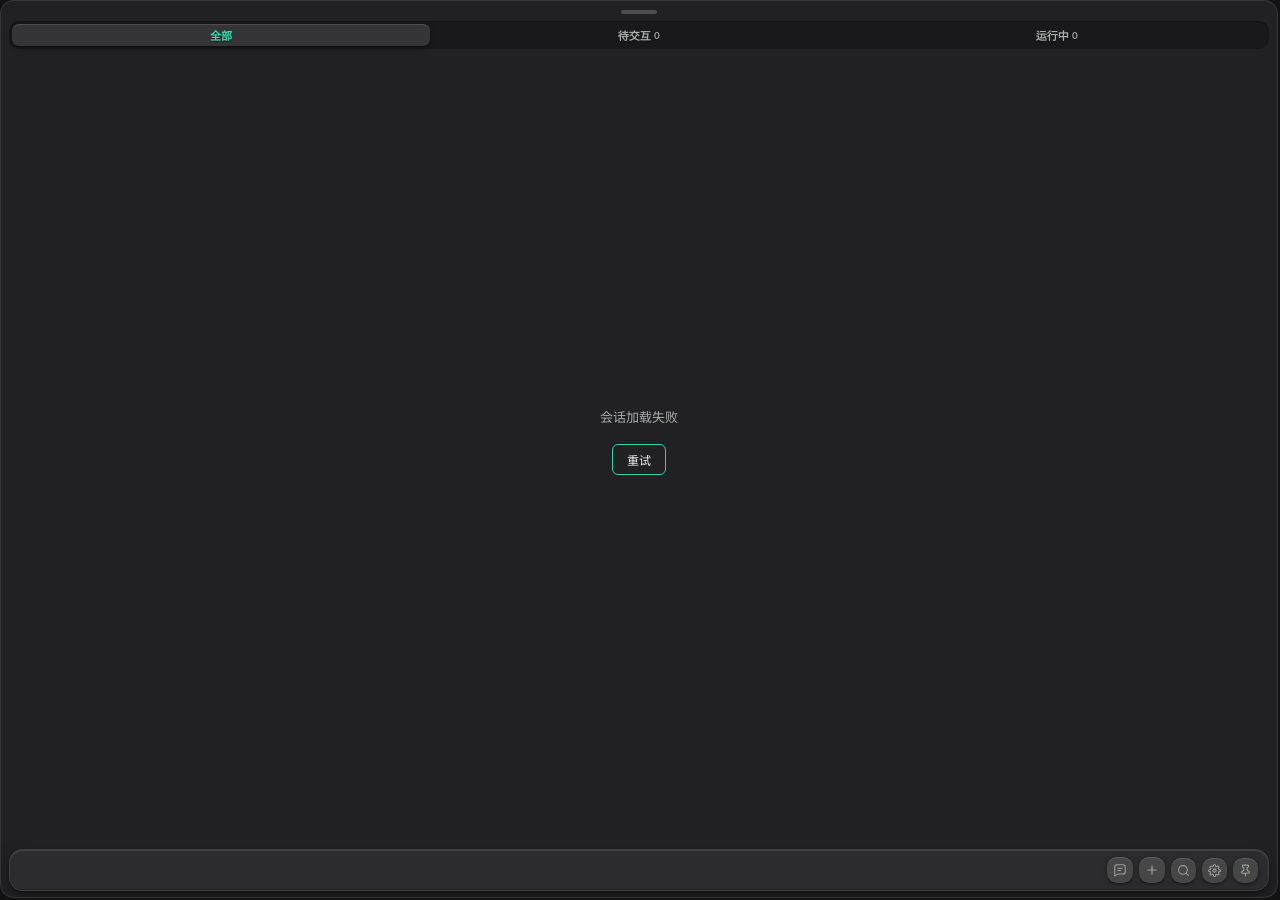
Test: App › 初始加载失败显示错误与重试，重试成功后恢复正常
Expected: the text "会话加载失败" is shown, [600,407,678,426]
Expected: the text "还没有会话" is not shown
Click the button with test id "empty-retry-cta" at (639, 460), box [612,444,666,475]
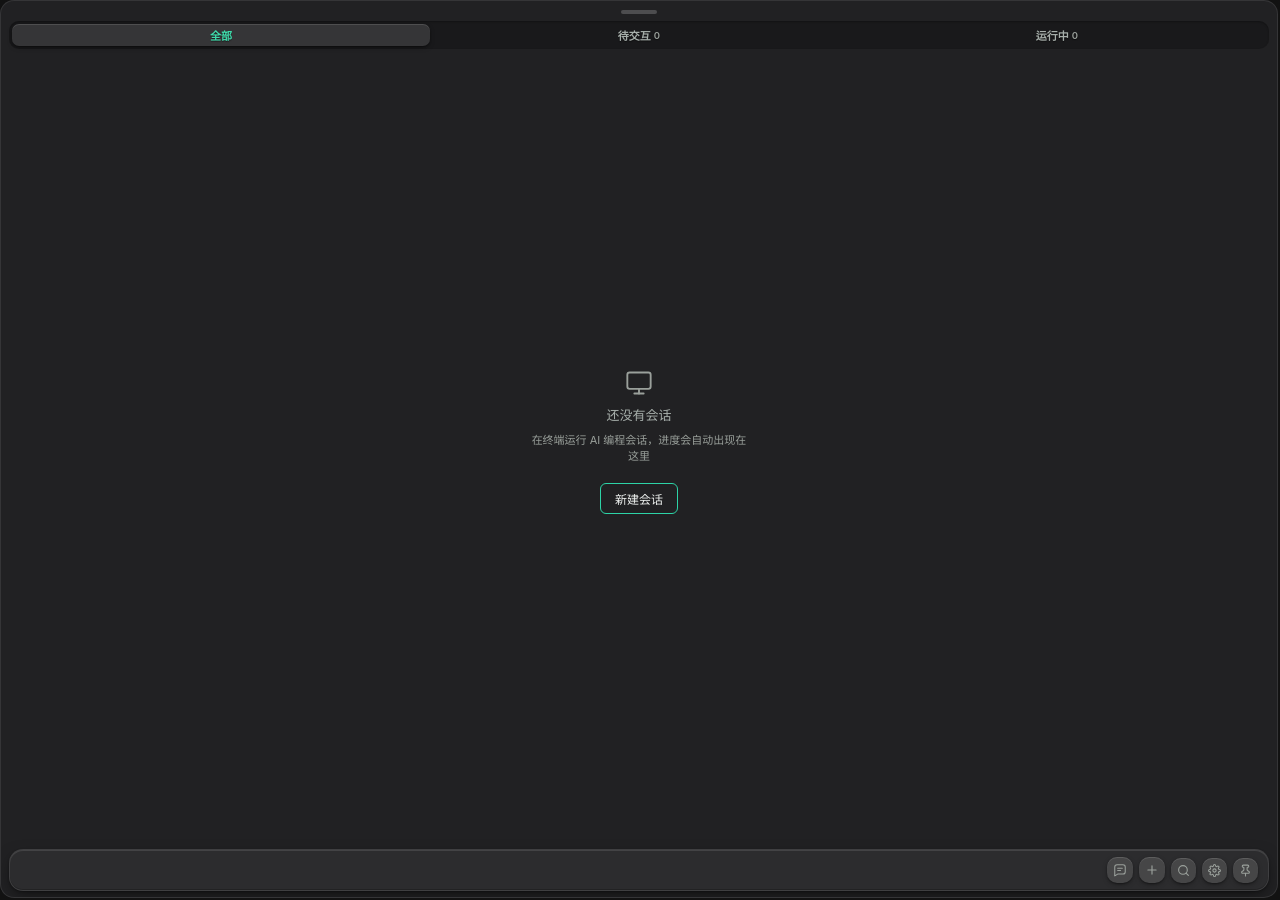
Expected: the text "还没有会话" is shown, [606,404,672,424]
Expected: the text "会话加载失败" is gone
